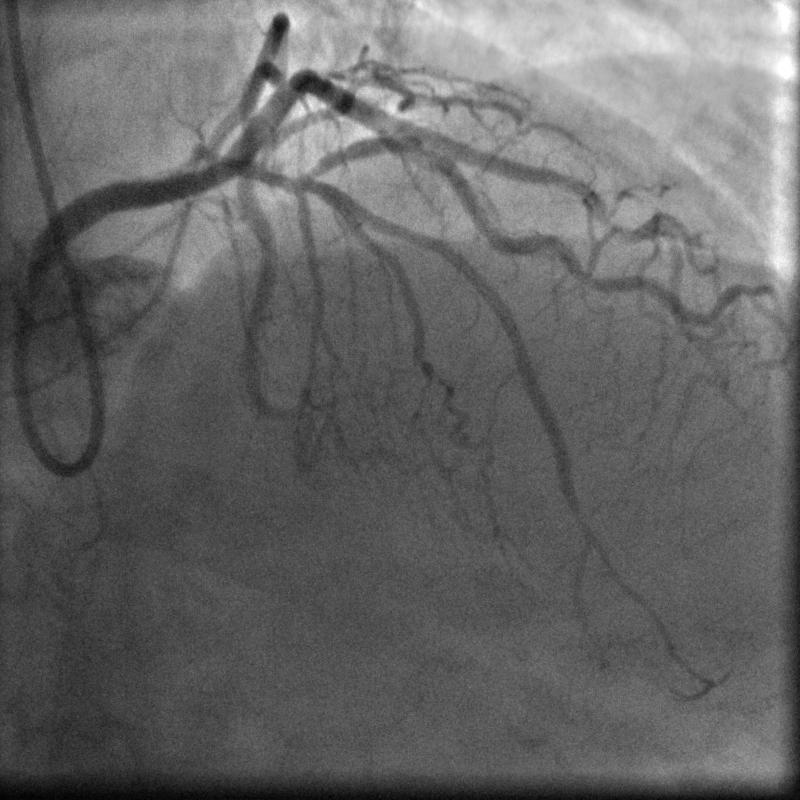Stenosis: (403, 133, 456, 172)
